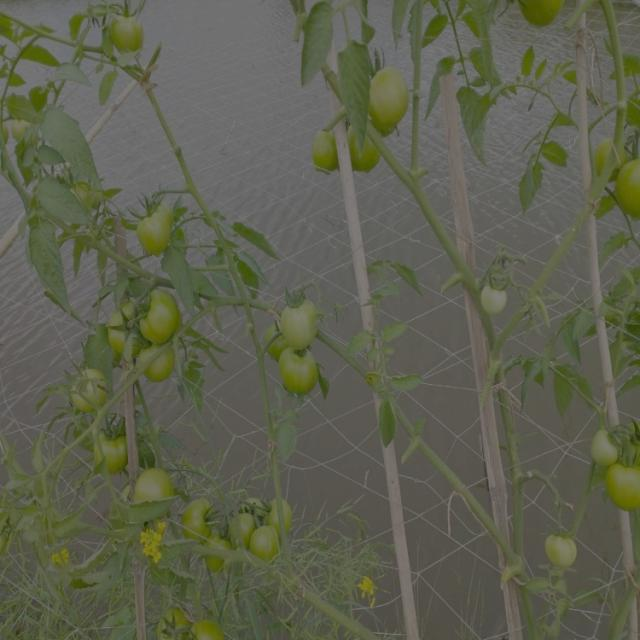tomato: (132, 195, 183, 260), (367, 64, 413, 133), (275, 349, 326, 402), (274, 291, 321, 348), (93, 417, 136, 479), (136, 287, 184, 338), (69, 361, 111, 418), (103, 6, 151, 55), (128, 470, 178, 512), (601, 465, 640, 517), (477, 277, 515, 330), (347, 122, 386, 173), (543, 528, 584, 573), (613, 154, 640, 221), (107, 307, 143, 357), (310, 125, 344, 177), (177, 501, 220, 542), (143, 343, 182, 388), (587, 426, 629, 467), (518, 1, 572, 32), (261, 499, 298, 536), (10, 113, 43, 151), (594, 133, 621, 178), (155, 607, 191, 640), (72, 175, 105, 210), (227, 507, 255, 545), (250, 530, 286, 559), (192, 613, 224, 640)
